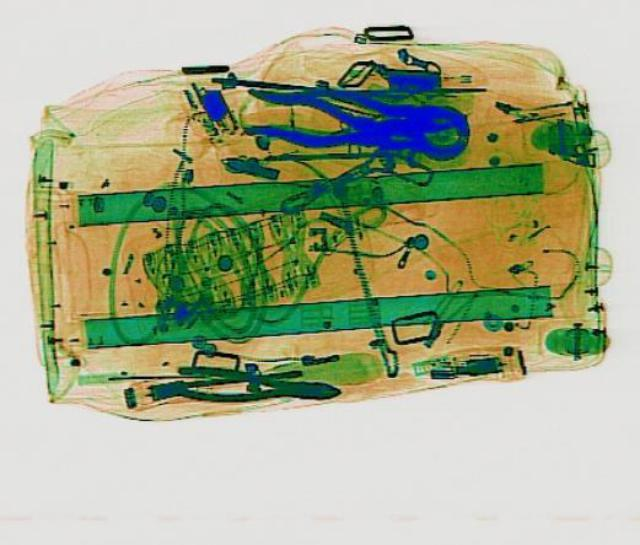Pliers: (236, 85, 407, 157)
